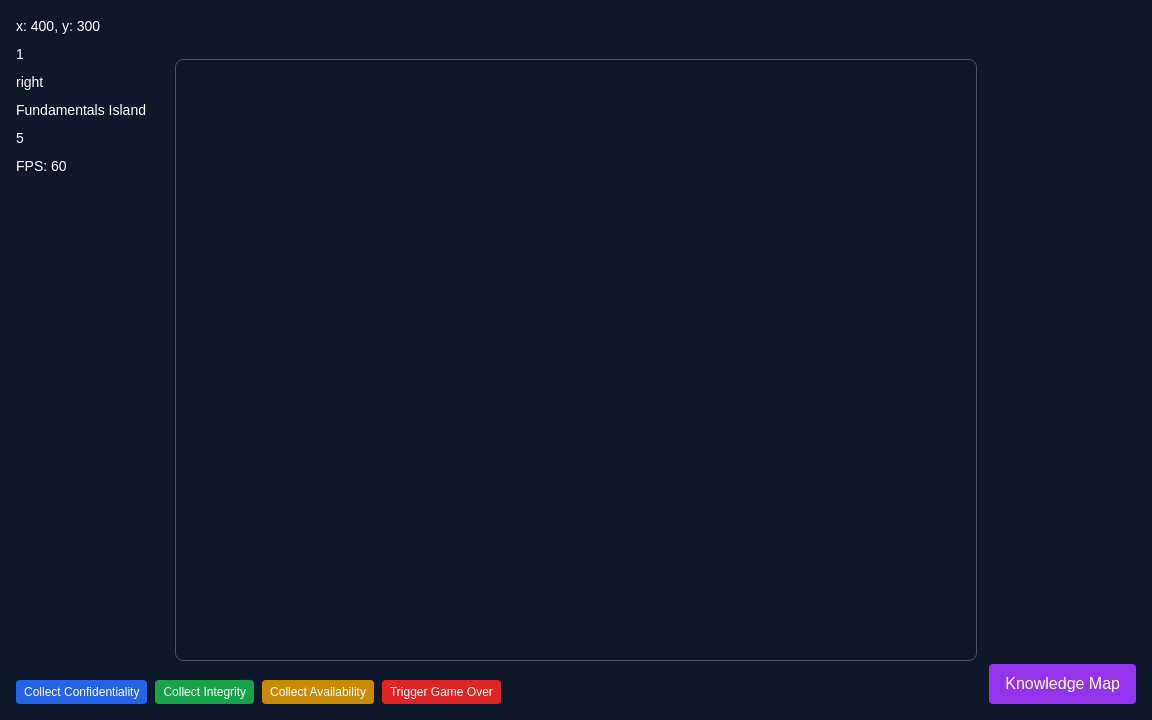
CyberKnowledgeSnakeGame - Core Game Mechanics › Knowledge Orb Collection › should display collected concept information
The width and height of the screenshot is (1152, 720).
Click the button with test id "collect-orb-confidentiality".
click(82, 692)  # box [16,680,147,704]
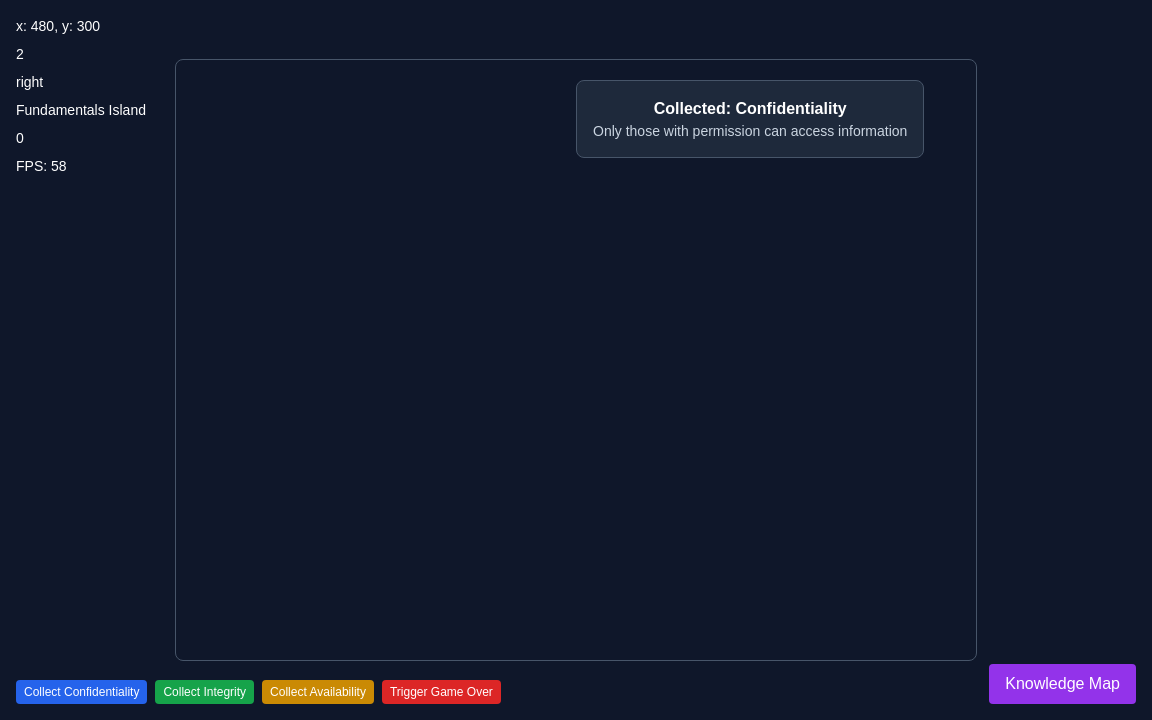
Check: the element with test id "concept-toast" shows "Collected: Confidentiality", box [576,80,924,158]
Check: the element with test id "concept-toast" shows "Only those with permission can access information", box [593,123,907,139]
